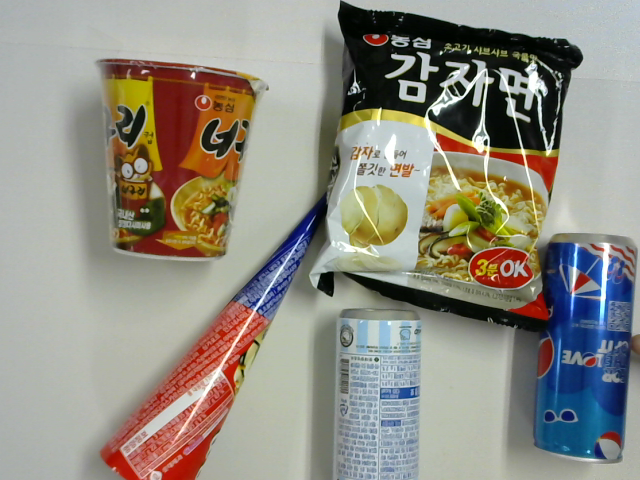Milkies_250ml: (328, 304, 430, 480)
Pepsi_Cola_Can_250ml: (534, 227, 640, 468)
Potato: (328, 1, 564, 322)
Raccoon: (92, 53, 264, 268)
World_Cone_Banila: (101, 184, 349, 478)
